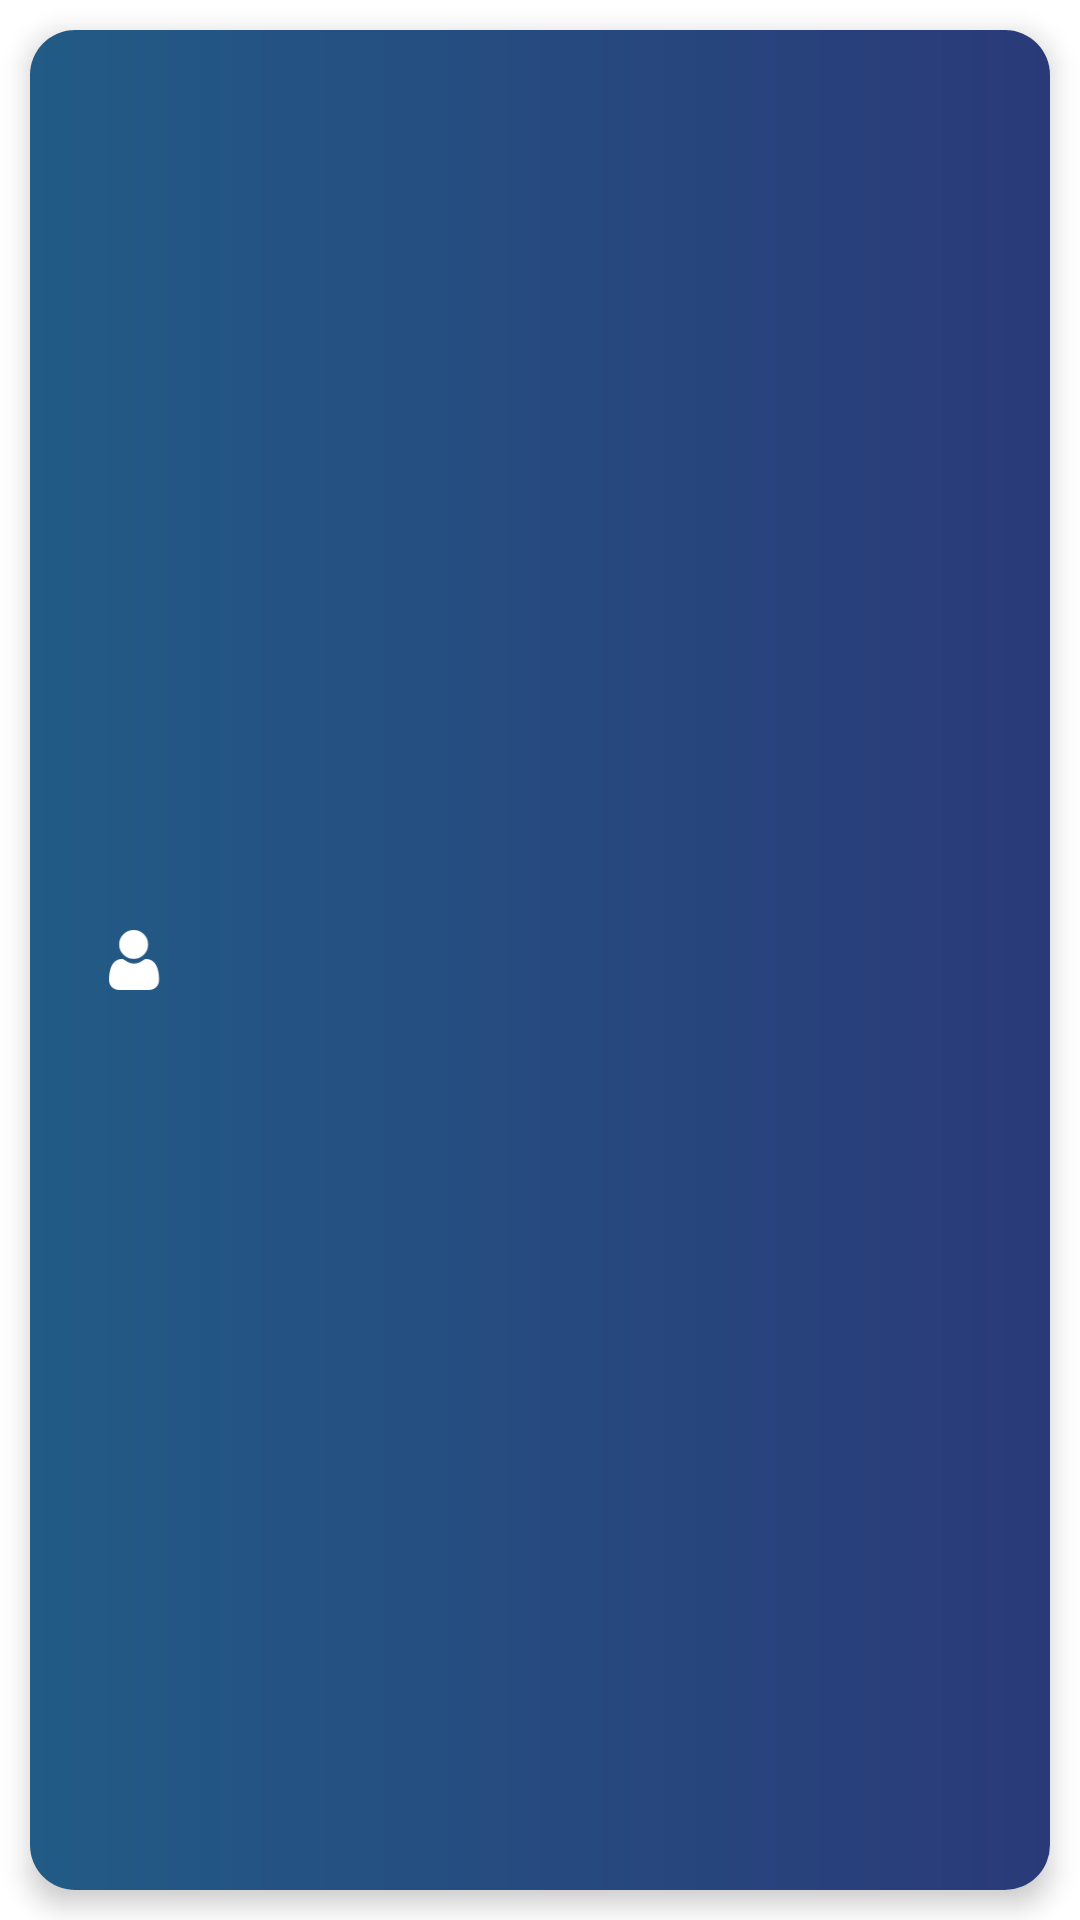

Point at icon controls on the screen. Image size 1080px×1920px, points as (x,y).
user: (134,960)
